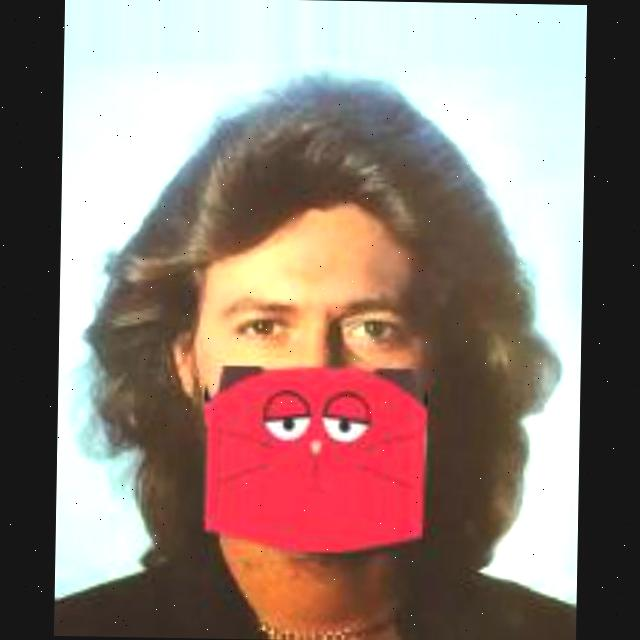suspicion: (165, 167, 468, 538)
